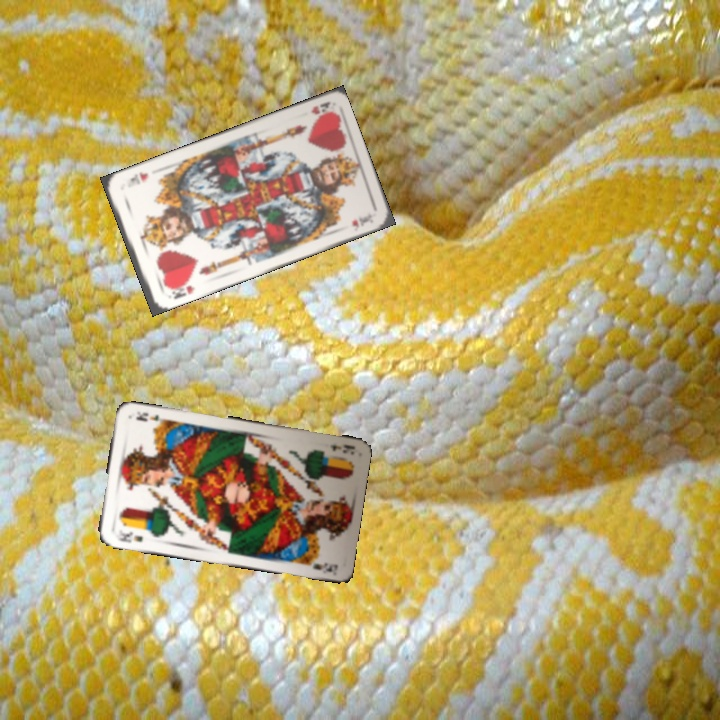EK: (110, 525, 146, 545), (326, 440, 356, 457)
HK: (164, 276, 198, 302), (307, 98, 335, 119)
